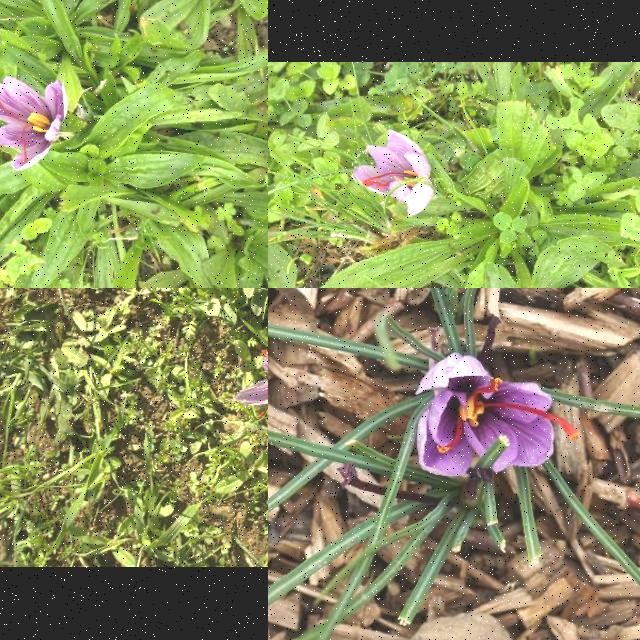flower: (416, 352, 578, 480), (352, 128, 434, 216), (0, 78, 69, 170), (234, 324, 268, 421)
